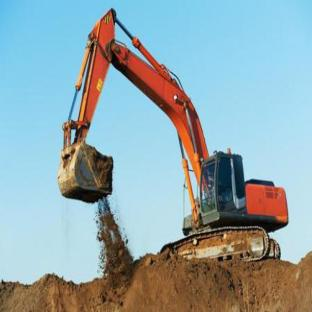ExcavationMachinery: (43, 0, 310, 265)
